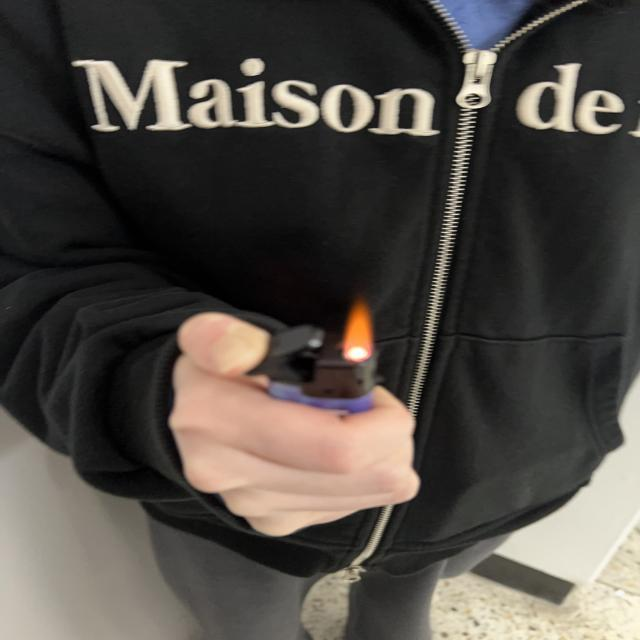fire: (342, 295, 374, 362)
